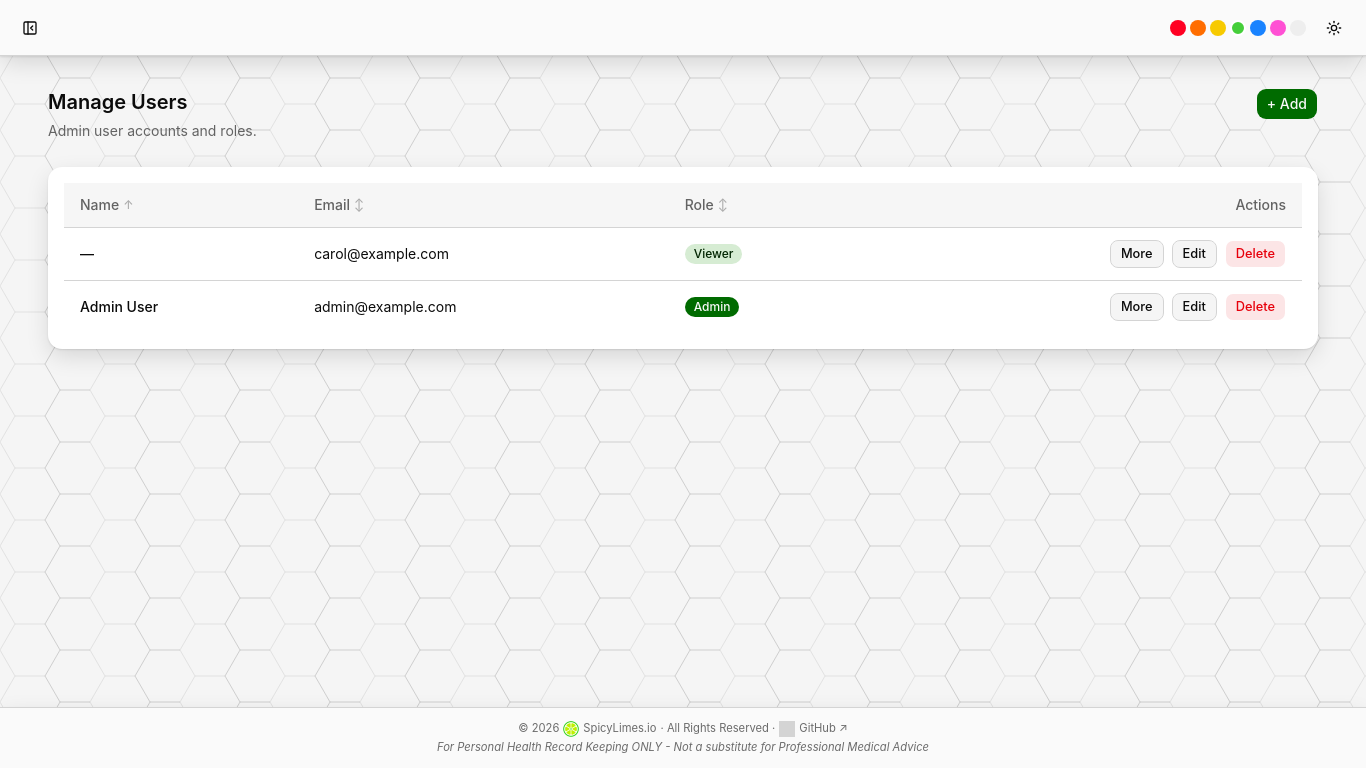
Test: UsersPage › opens edit modal with pre-populated fields when Edit is clicked
Expected: the text "Admin User" is shown, [80, 298, 158, 315]
Click the button "Edit" in the row of "admin@example.com".
click(1194, 307)  # box [1172, 293, 1217, 321]
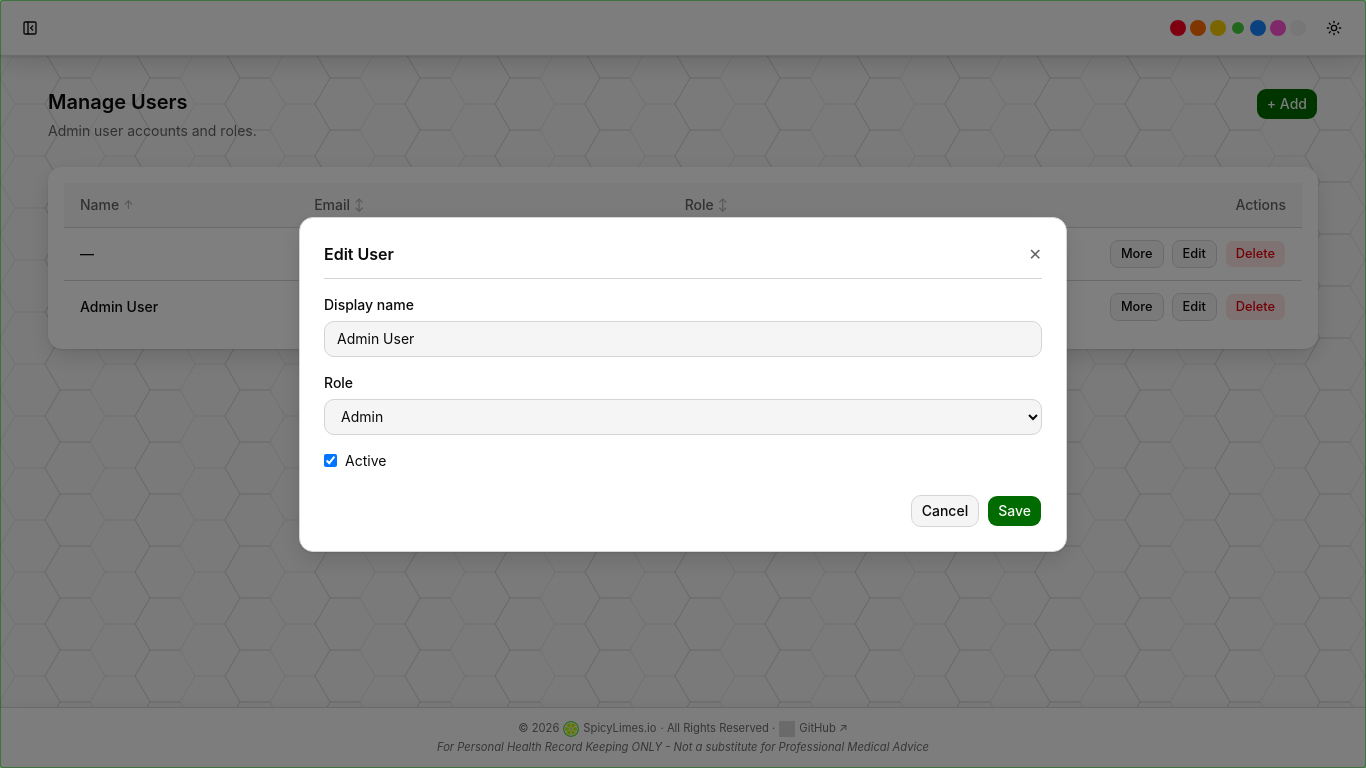
Expected: the field labelled "Display name" holds "Admin User", [324, 320, 1042, 356]
